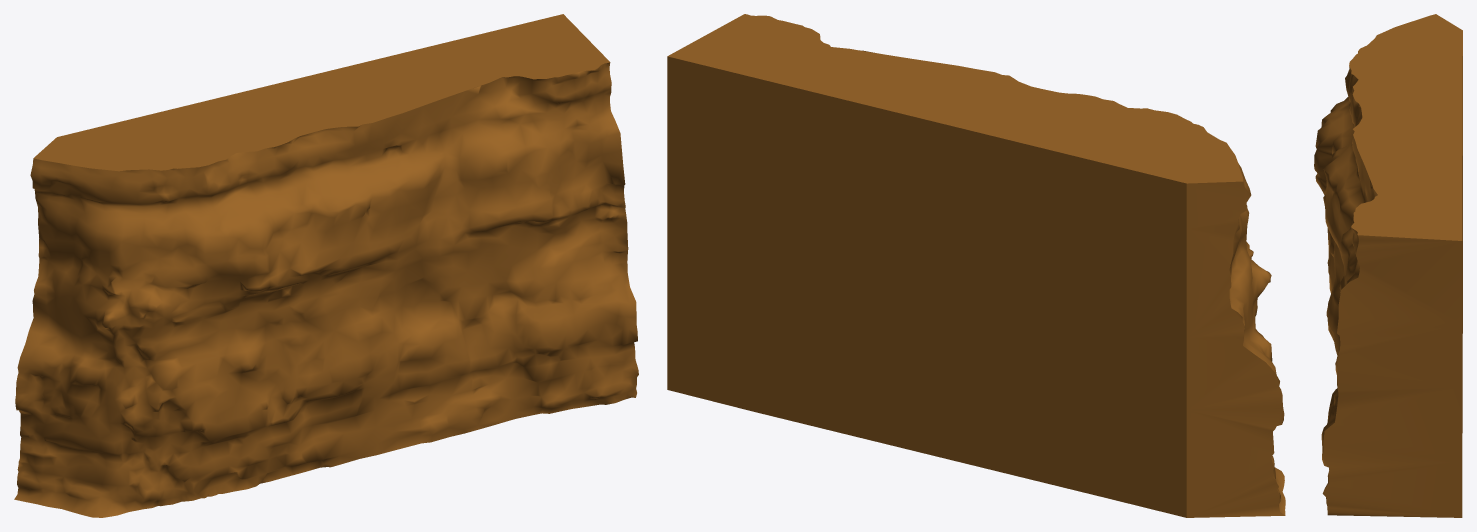
The model's file is Mesh_Cliff_Corner_03_AU.FBX.
3 renders of one model, left to right at view 1: azimuth 30°, elevation 25°; view 2: azimuth 150°, elevation 25°; view 3: azimuth 270°, elevation 25°, orthographic. The views are drawn at different scales.
Parts seen in each view (by area): view 1: MESH_LOD0, CAP_LOD0; view 2: CAP_LOD0, MESH_LOD0; view 3: CAP_LOD0, MESH_LOD0.
Part boxes in pixels (bbox=[...]): MESH_LOD0: bbox=[14, 62, 638, 517]; CAP_LOD0: bbox=[34, 14, 628, 248]; CAP_LOD0: bbox=[667, 14, 1284, 517]; MESH_LOD0: bbox=[862, 50, 1285, 515]; CAP_LOD0: bbox=[1322, 14, 1462, 517]; MESH_LOD0: bbox=[1314, 52, 1377, 513].
Size of what is drawn, in the model's own units: 1227 by 666 by 322.
